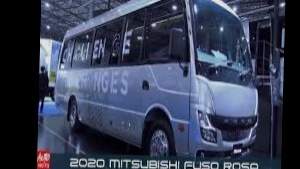bus: (53, 0, 262, 162)
